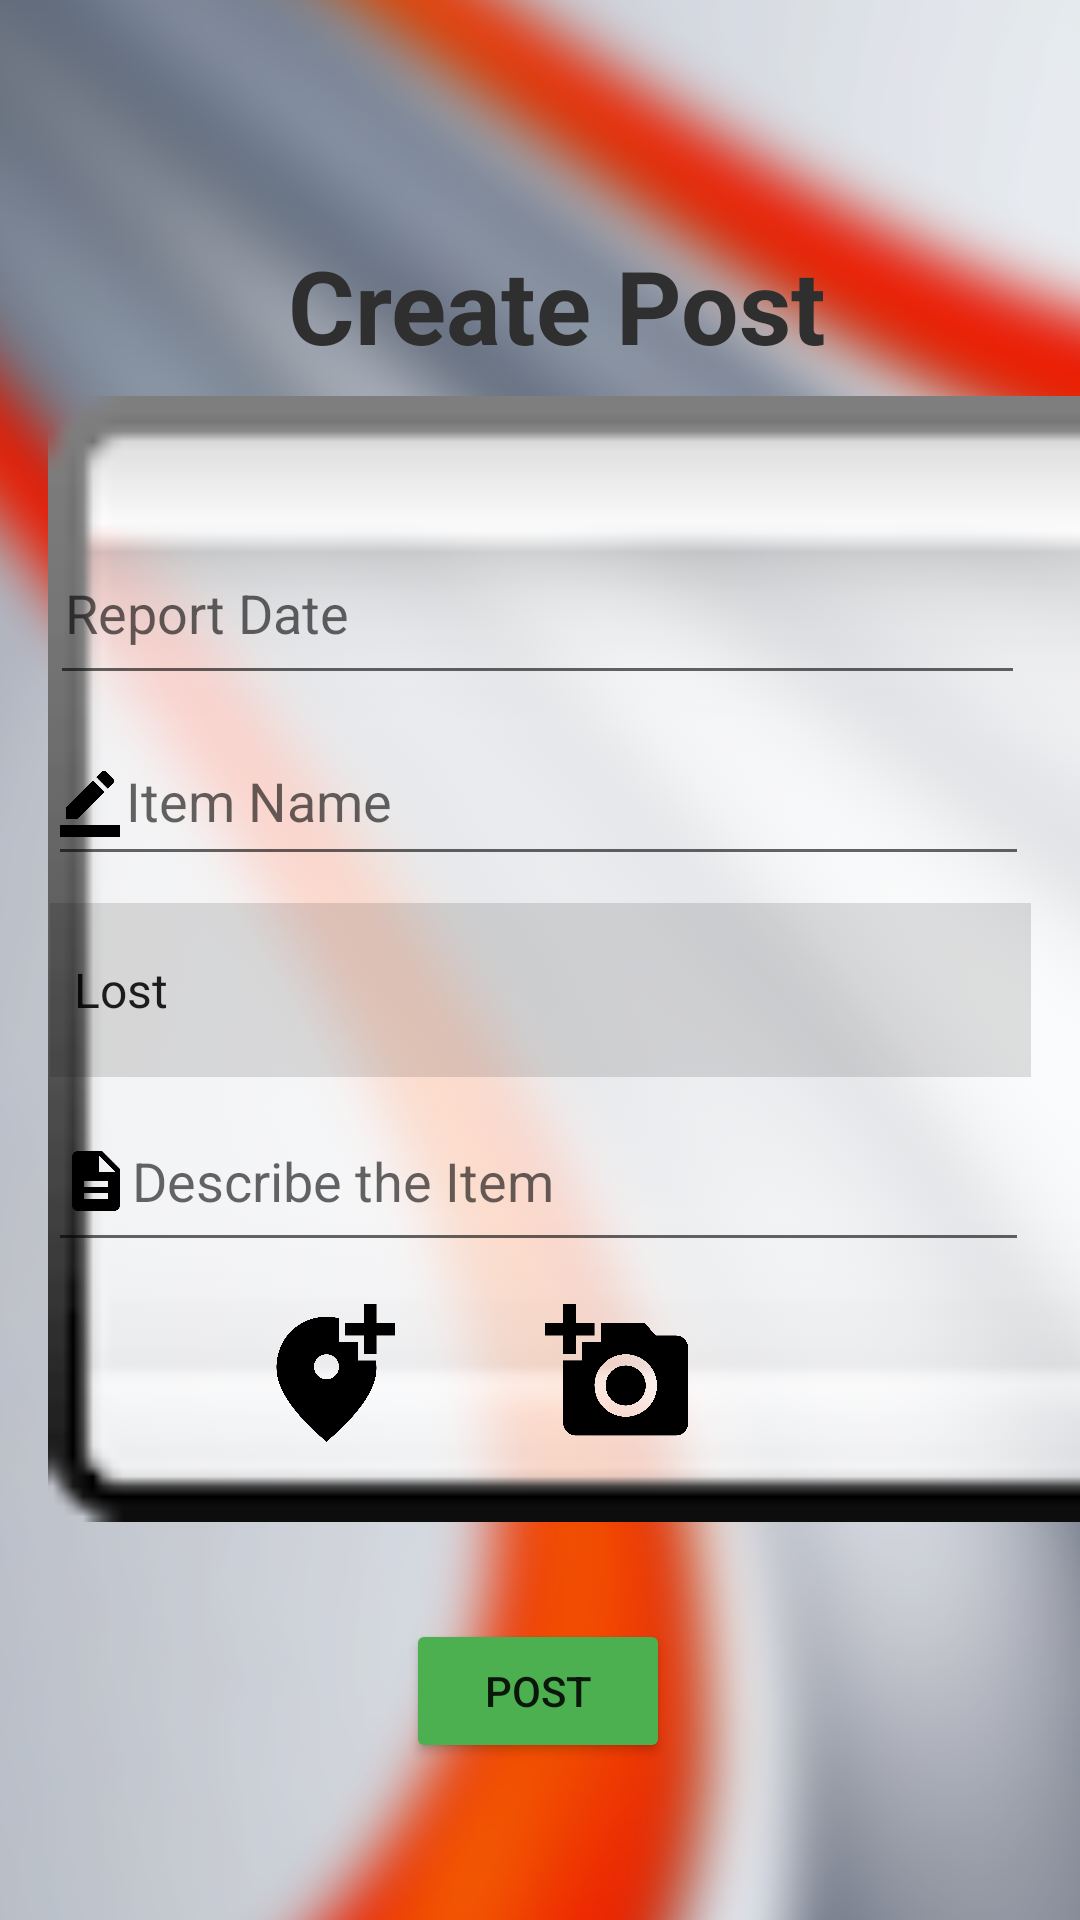

Screen size 1080×1920. Icon name, then its box in pixels as {"left": x1, "top": y1, "right": x2, "bottom": y2}:
add location: {"left": 276, "top": 1304, "right": 395, "bottom": 1442}
add photo: {"left": 545, "top": 1298, "right": 732, "bottom": 1448}
